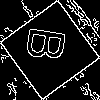B: (25, 25, 76, 65)
